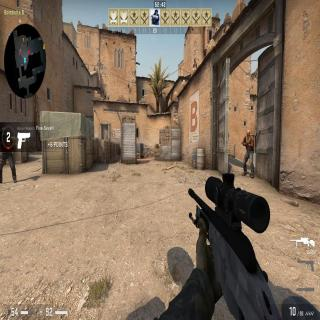T-Body: (1, 130, 18, 183), (241, 128, 255, 177)
T-Head: (246, 130, 250, 137)
